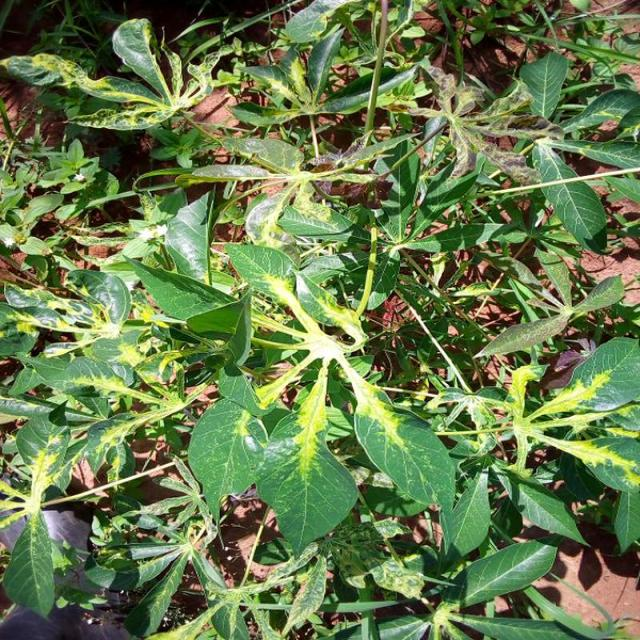cassava leaf: (254, 408, 360, 558), (353, 392, 456, 508), (186, 395, 268, 529), (530, 139, 608, 255)
